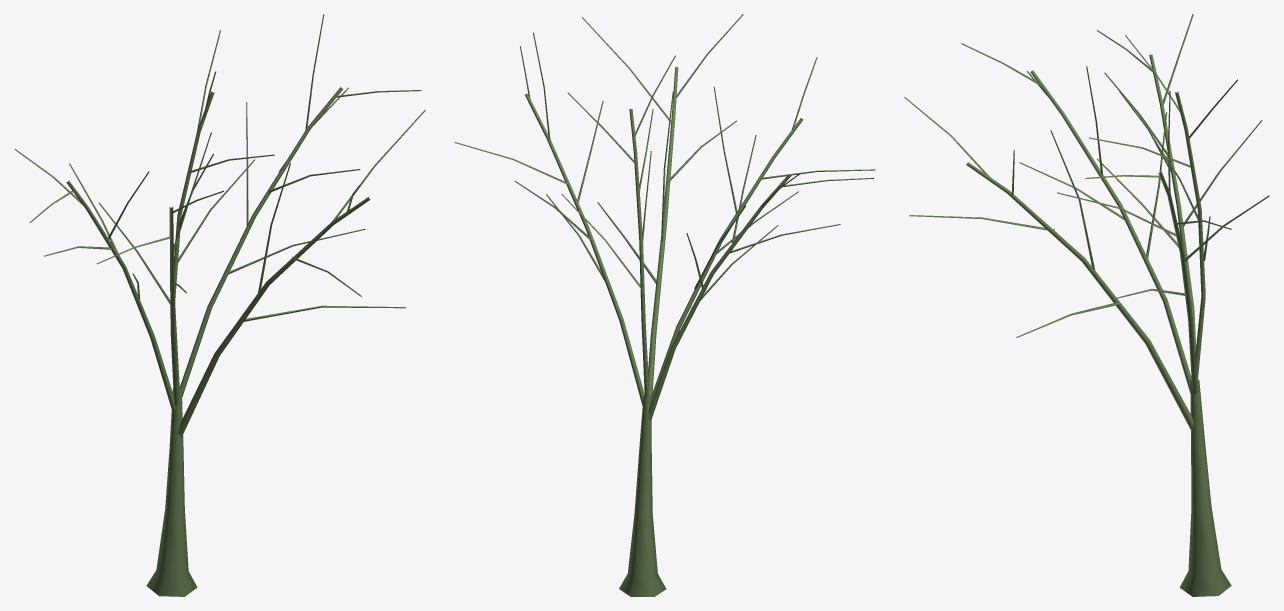
The model's file is tree_s2_lod1.glb.
The picture shows the model from 3 angles, left to right: view 1: azimuth 30°, elevation 25°; view 2: azimuth 150°, elevation 25°; view 3: azimuth 270°, elevation 25°; orthographic projection. The views are drawn at different scales.
Bounding box in the file's own units: 8.54 × 11.68 × 6.87.
